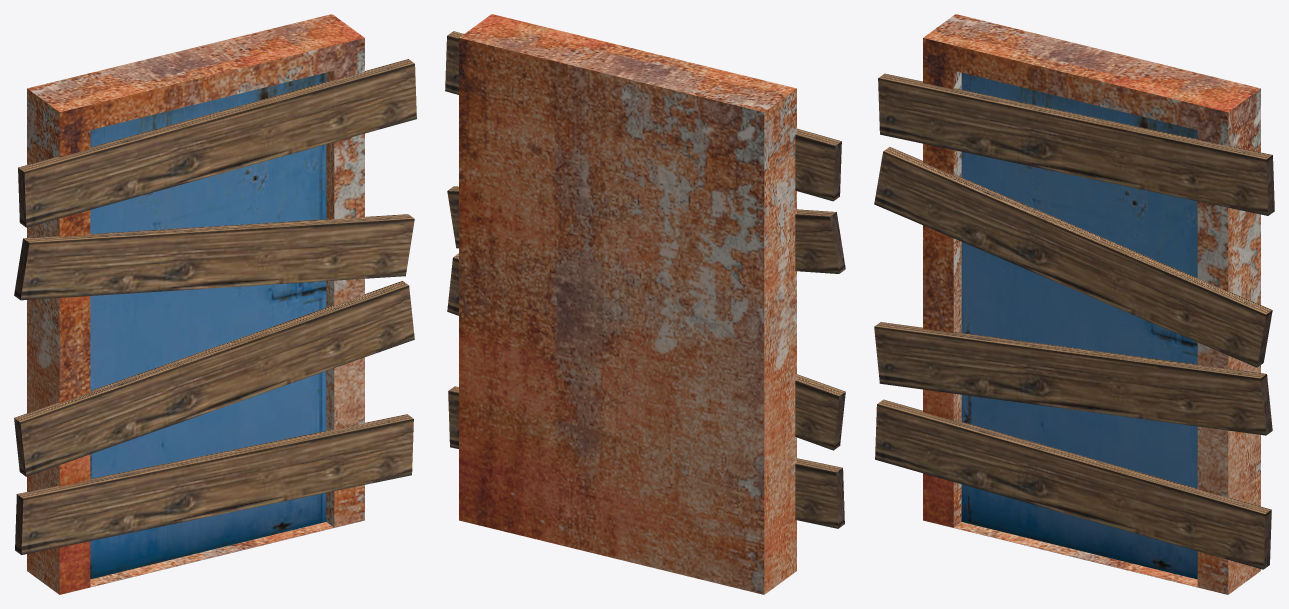
Rendered from labdoortest1.gltf.
3 renders of one model, left to right at view 1: azimuth 30°, elevation 25°; view 2: azimuth 150°, elevation 25°; view 3: azimuth 330°, elevation 25°, orthographic.
Parts seen in each view (by area): view 1: Cube; view 2: Cube; view 3: Cube.
Part boxes in pixels (x1,y1,x2,y2): Cube: (14,14,416,594); Cube: (445,14,845,594); Cube: (874,14,1274,594).
Size of the model in its own units: 2.59 by 3.02 by 0.4391.
2 materials, 2 textured.
